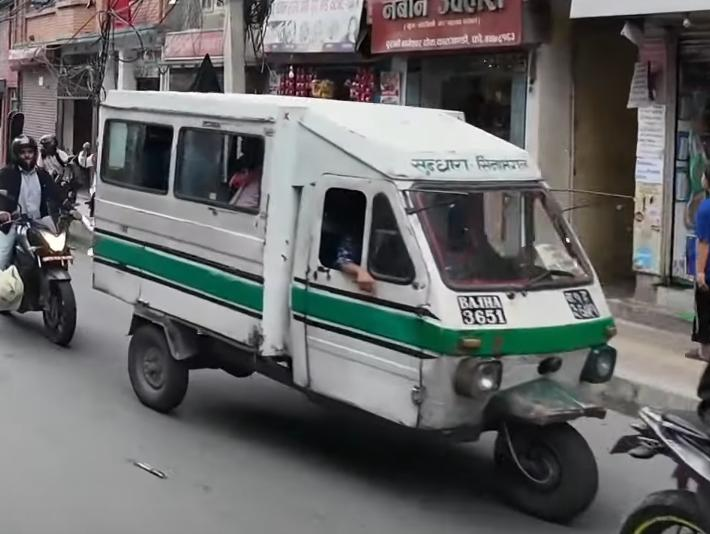bike: (0, 179, 84, 349)
tempo: (92, 85, 617, 527)
